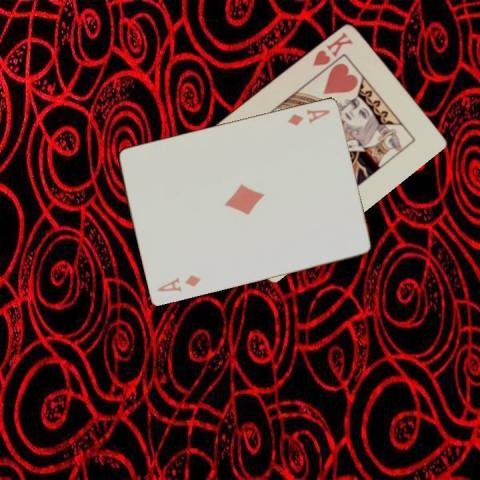Ad: (154, 272, 201, 294), (285, 106, 331, 127)
Kh: (309, 28, 355, 67)
